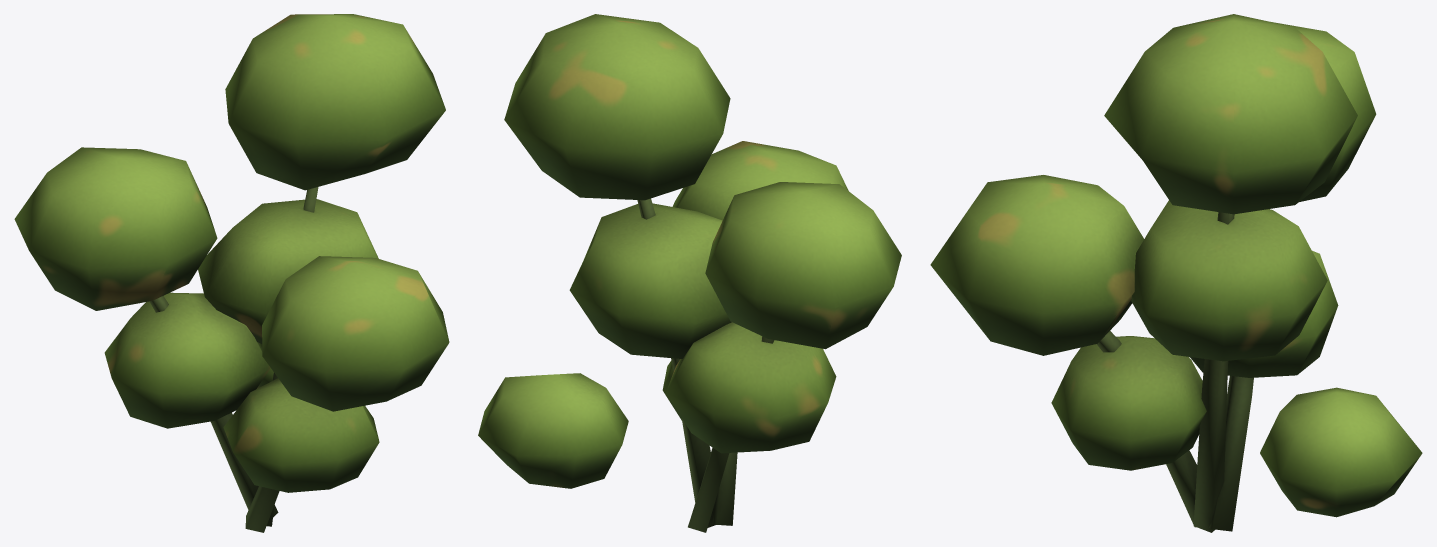
File: Alga_B.fbx
3 renders of one model, left to right at view 1: azimuth 30°, elevation 25°; view 2: azimuth 150°, elevation 25°; view 3: azimuth 270°, elevation 25°, orthographic. The views are drawn at different scales.
Visible parts, largest first — view 1: Malla; view 2: Malla; view 3: Malla.
Part boxes in pixels (x1=…): Malla: x1=14, y1=14, x2=449, y2=532; Malla: x1=478, y1=14, x2=901, y2=532; Malla: x1=930, y1=14, x2=1422, y2=532.
Size of the model in its own units: 0.9937 by 1.18 by 0.9567.
Materials: 1 (1 with a texture image).
